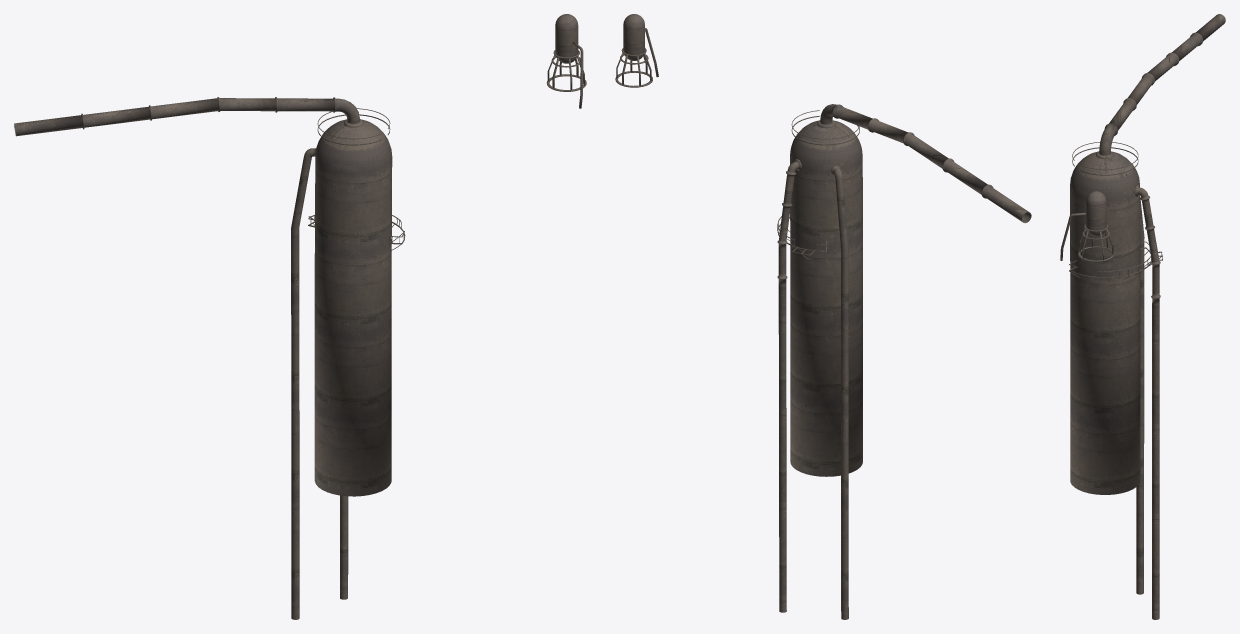
Rendered from SM_Corridor_02_11.fbx.
The picture shows the model from 3 angles, left to right: view 1: azimuth 30°, elevation 25°; view 2: azimuth 150°, elevation 25°; view 3: azimuth 270°, elevation 25°; orthographic projection. The views are drawn at different scales.
Parts seen in each view (by area): view 1: SM_Corridor_02_11; view 2: SM_Corridor_02_11; view 3: SM_Corridor_02_11.
Part boxes in pixels (<box>): SM_Corridor_02_11: <box>14,14,586,619</box>; SM_Corridor_02_11: <box>615,14,1031,619</box>; SM_Corridor_02_11: <box>1060,14,1225,619</box>.
Size of the model in its own units: 10693 by 11390 by 3345.
